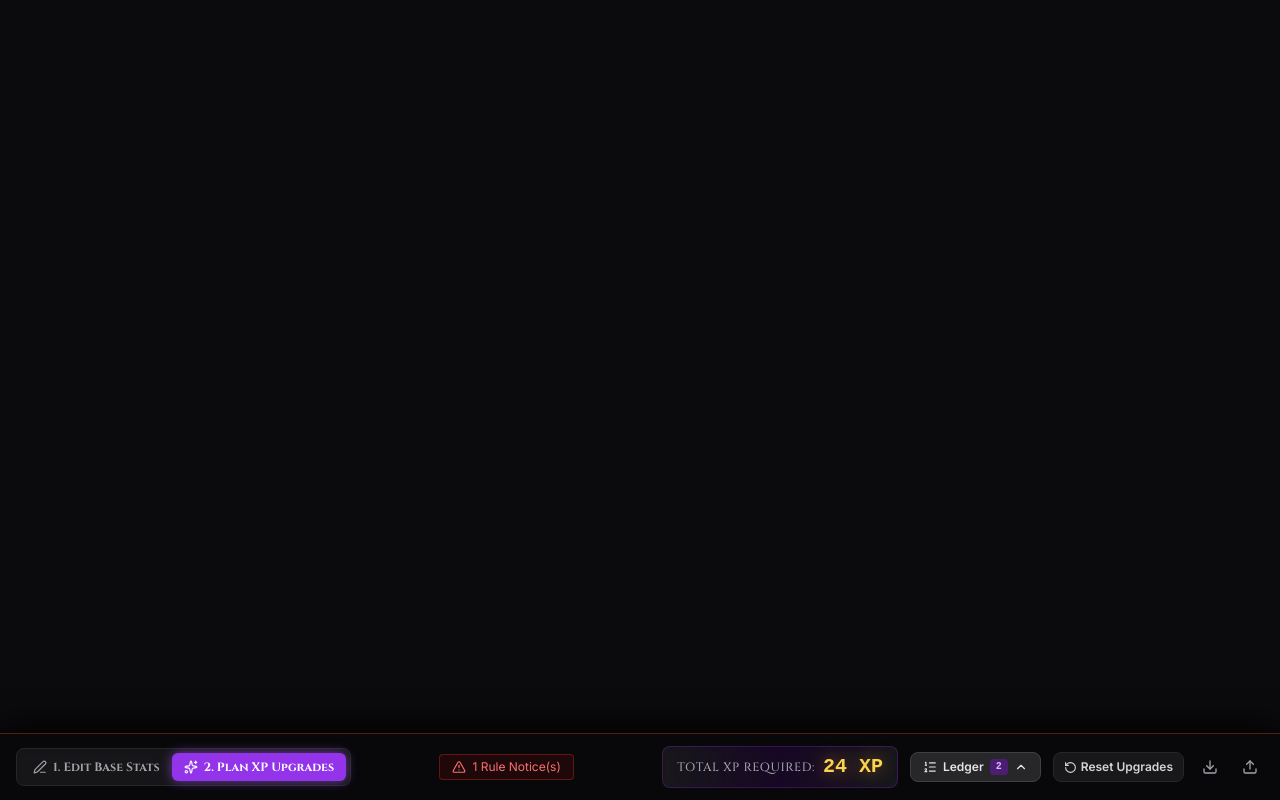
Test: XPSummaryBar Component › renders warning banner and opens drawer when warning badge clicked
This screenshot has width=1280, height=800.
Click the text "1 Rule Notice(s)": [517, 767] box [472,759,561,775]
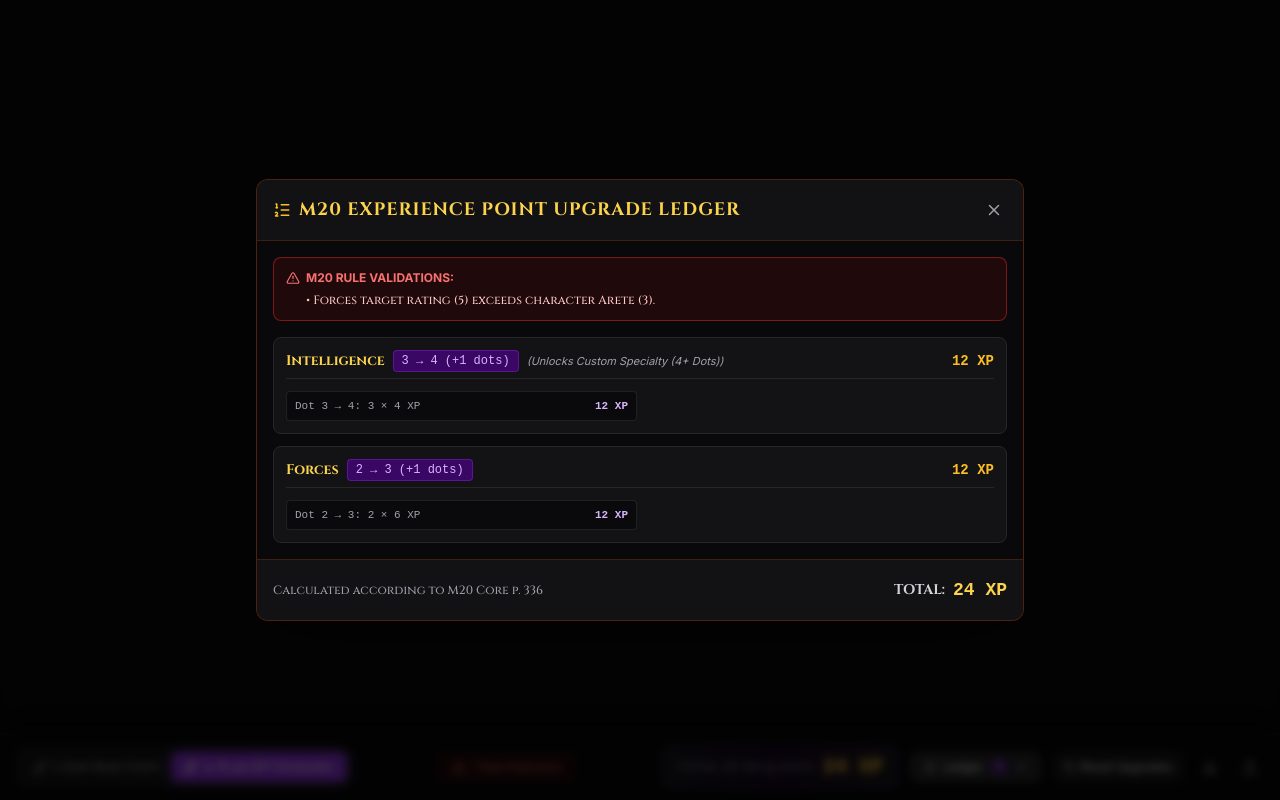
Check: the heading "M20 Experience Point Upgrade Ledger" is shown, box [299,196,740,224]
Check: the text "• Forces target rating (5) exceeds character Arete (3)." is shown, box [306,292,655,308]
